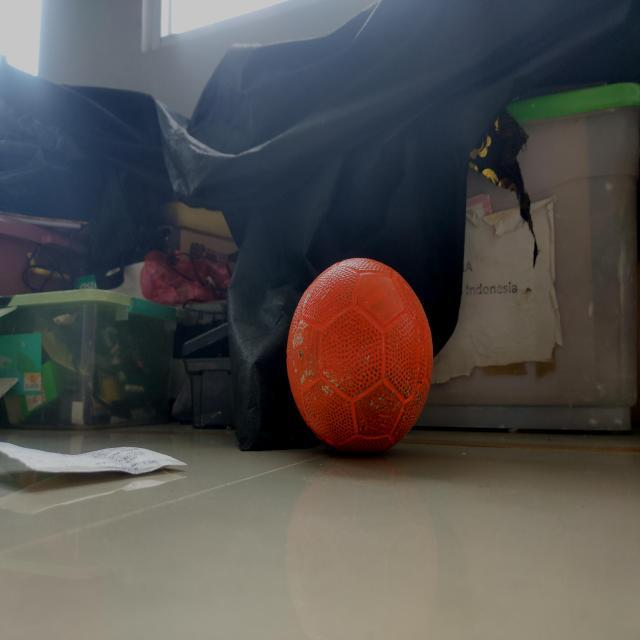bola: (276, 252, 446, 476)
